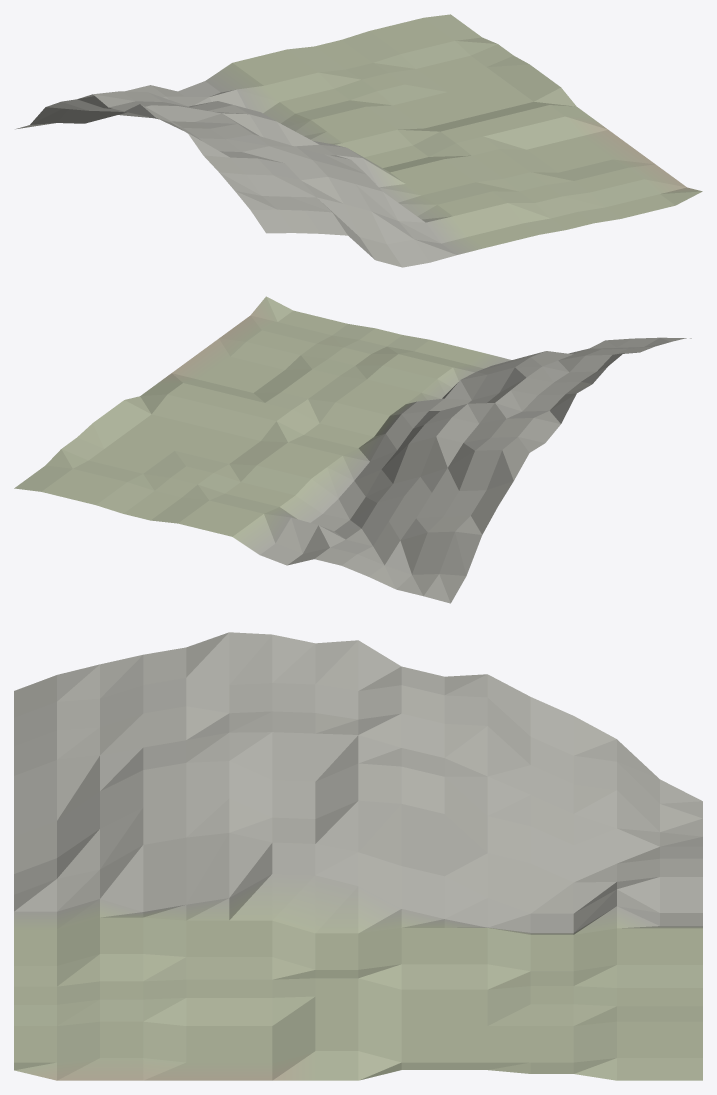
3 renders of one model, top to bottom at view 1: azimuth 30°, elevation 25°; view 2: azimuth 150°, elevation 25°; view 3: azimuth 270°, elevation 25°, orthographic. The views are drawn at different scales.
Size of the model in its own units: 32 by 8.88 by 32.
